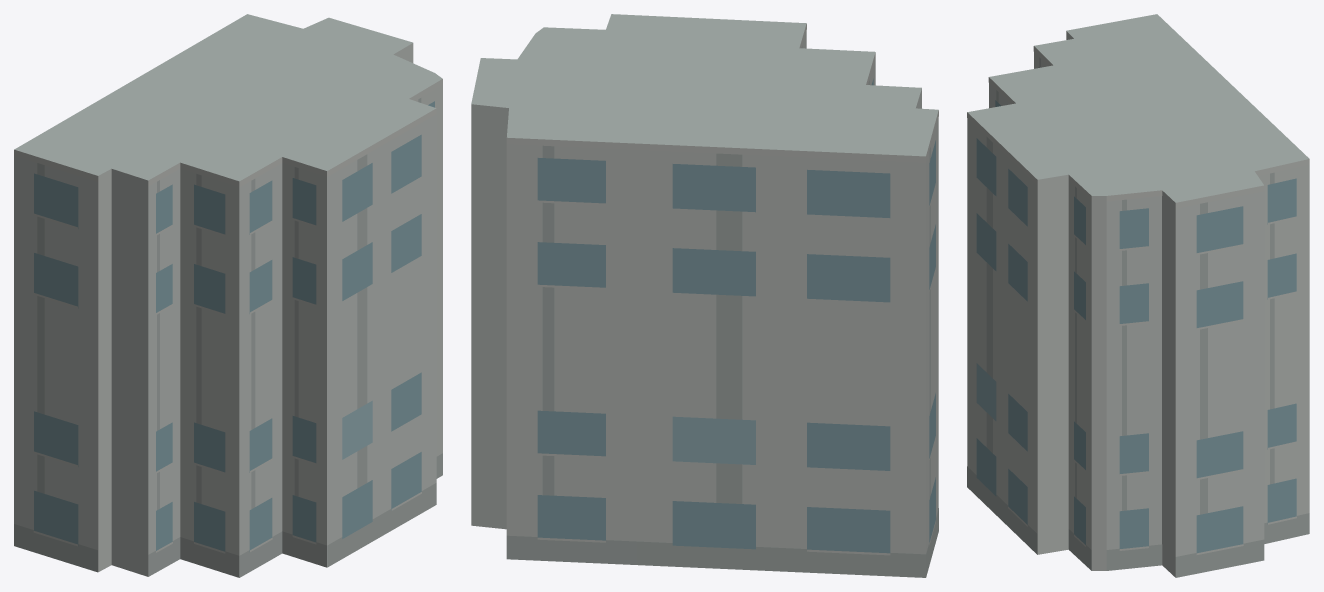
File: survey-upis-32487135.glb
The picture shows the model from 3 angles, left to right: view 1: azimuth 30°, elevation 25°; view 2: azimuth 150°, elevation 25°; view 3: azimuth 270°, elevation 25°; orthographic projection. The views are drawn at different scales.
Parts seen in each view (by area): view 1: survey-upis-32487135.tmp; view 2: survey-upis-32487135.tmp; view 3: survey-upis-32487135.tmp.
Boxes of the visible parts, x1,y1,x2,y2 form: survey-upis-32487135.tmp: (14,14,442,577); survey-upis-32487135.tmp: (471,14,938,577); survey-upis-32487135.tmp: (967,14,1309,577).
Size of the model in its own units: 17.29 by 16 by 13.25.
